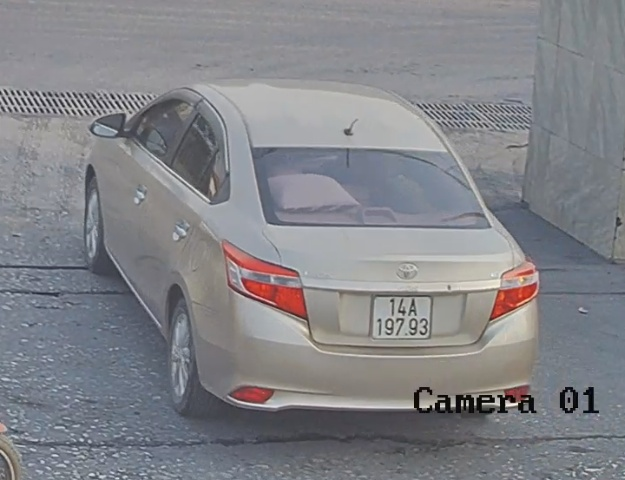vehicle plate: (373, 286, 432, 340)
